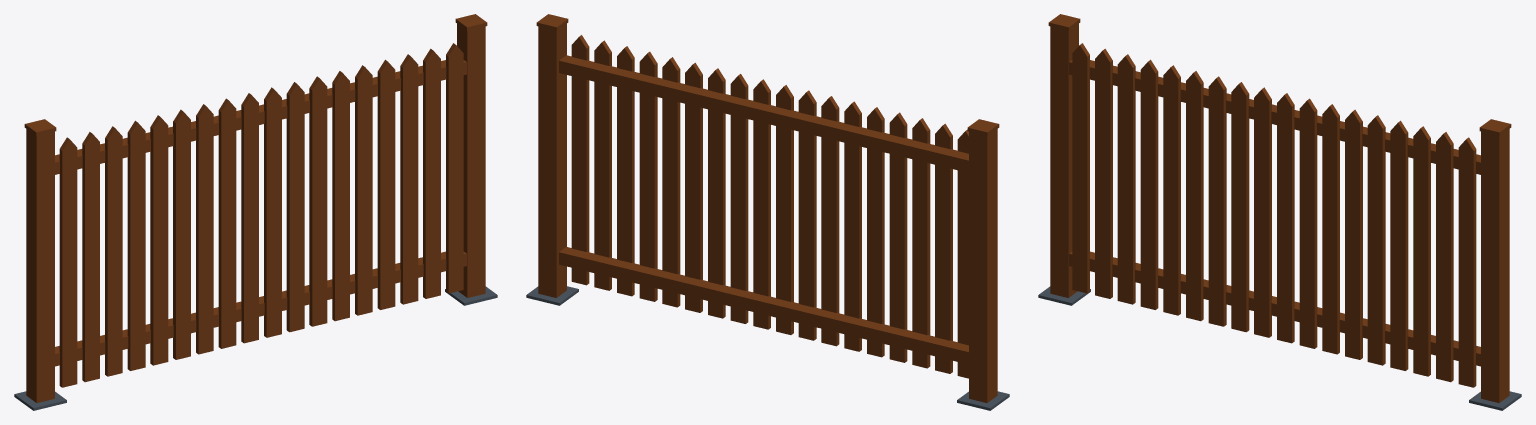
Rendered from picket-fence-original-exterior-cad-optimized.glb.
3 views of the same model, side by side, from view 1: azimuth 30°, elevation 25°; view 2: azimuth 150°, elevation 25°; view 3: azimuth 330°, elevation 25° (orthographic).
Visible parts, largest first — view 1: mesh-0, mesh-2; view 2: mesh-0, mesh-2; view 3: mesh-0, mesh-2.
Part boxes in pixels (left/top/right/bottom): mesh-0: left=24, top=14, right=487, bottom=402; mesh-2: left=14, top=286, right=497, bottom=410; mesh-0: left=536, top=14, right=999, bottom=402; mesh-2: left=526, top=286, right=1009, bottom=410; mesh-0: left=1048, top=14, right=1511, bottom=402; mesh-2: left=1038, top=286, right=1521, bottom=410.
Size of the model in its own units: 2155 by 1216 by 155.
